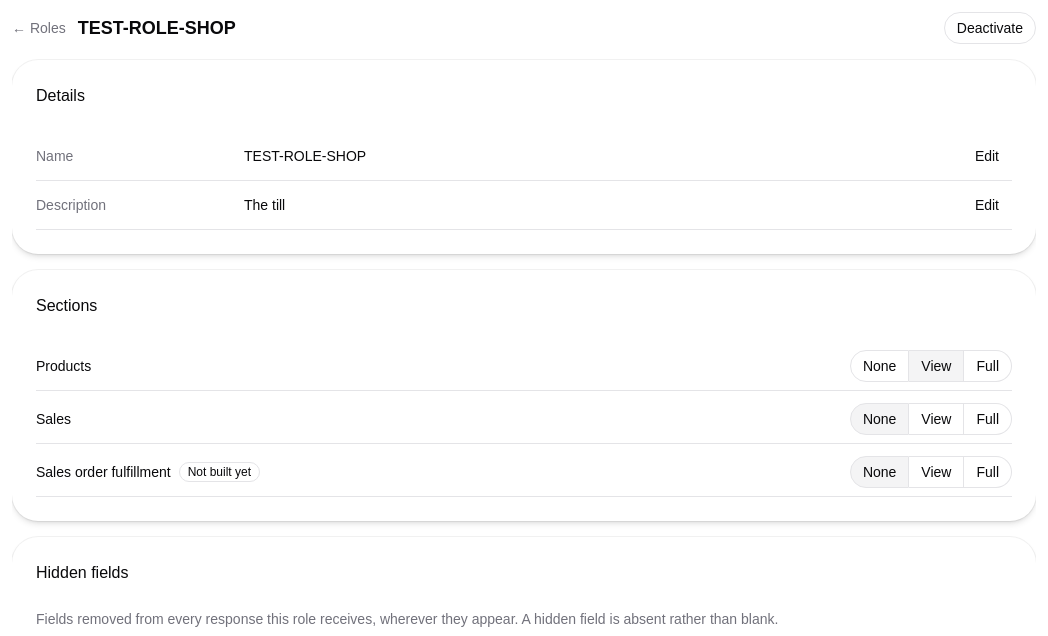
it: the grant grid › shows a refused grant against the row that caused it
Expected: the heading "TEST-ROLE-SHOP" is shown, [78,14,236,42]
Click the 2nd button "Full": (988, 419) [964,403,1012,435]
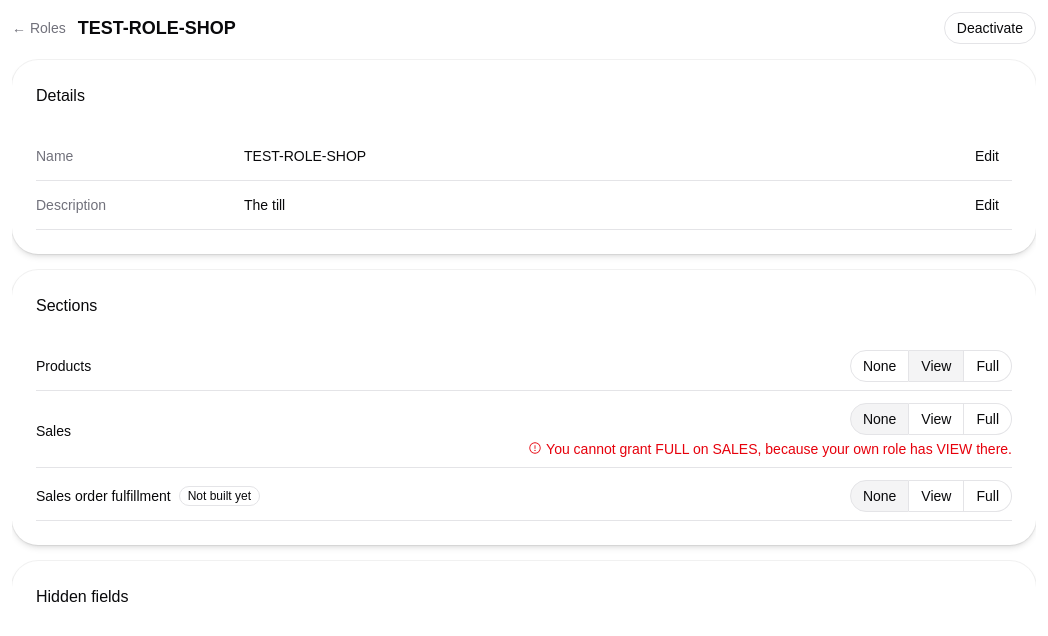
Expected: the message shows "because your own role has VIEW there", [546,441,1012,457]
